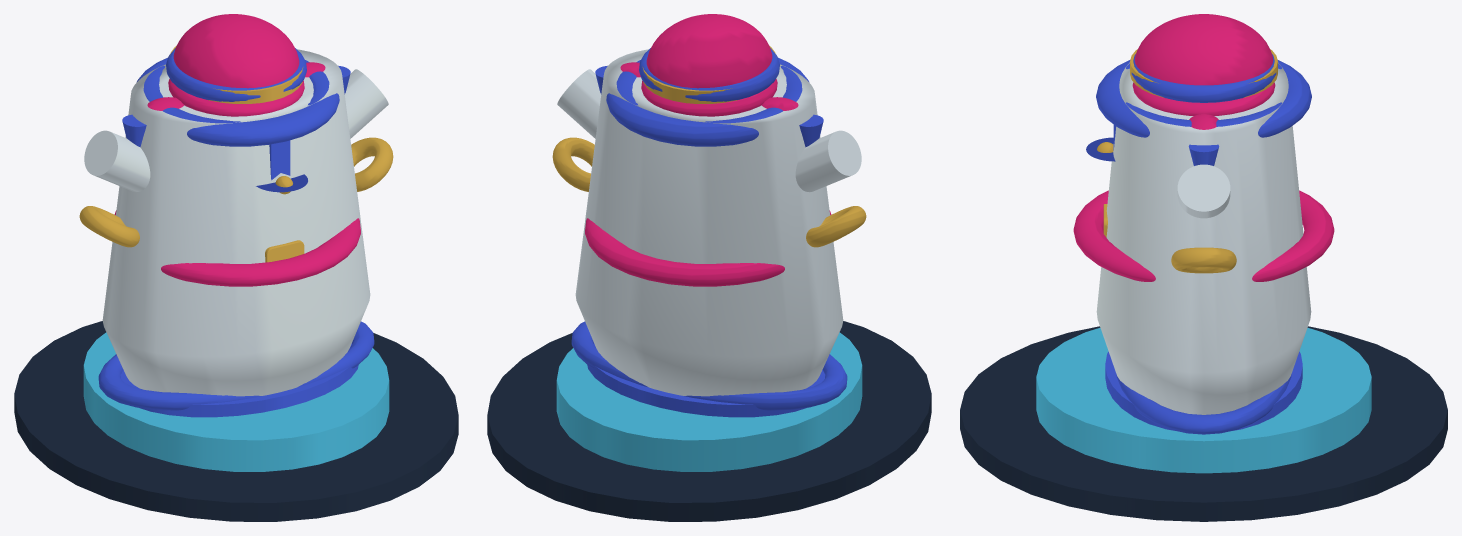
The model's file is 0750_先秦图鉴_冕服.glb.
3 renders of one model, left to right at view 1: azimuth 30°, elevation 25°; view 2: azimuth 150°, elevation 25°; view 3: azimuth 270°, elevation 25°, orthographic.
Parts seen in each view (by area): view 1: card_0750; view 2: card_0750; view 3: card_0750.
Boxes of the visible parts, x1,y1,x2,y2 form: card_0750: [14, 14, 458, 521]; card_0750: [487, 14, 931, 521]; card_0750: [960, 14, 1447, 521].
Size of the model in its own units: 0.9761 by 1 by 1.08.
